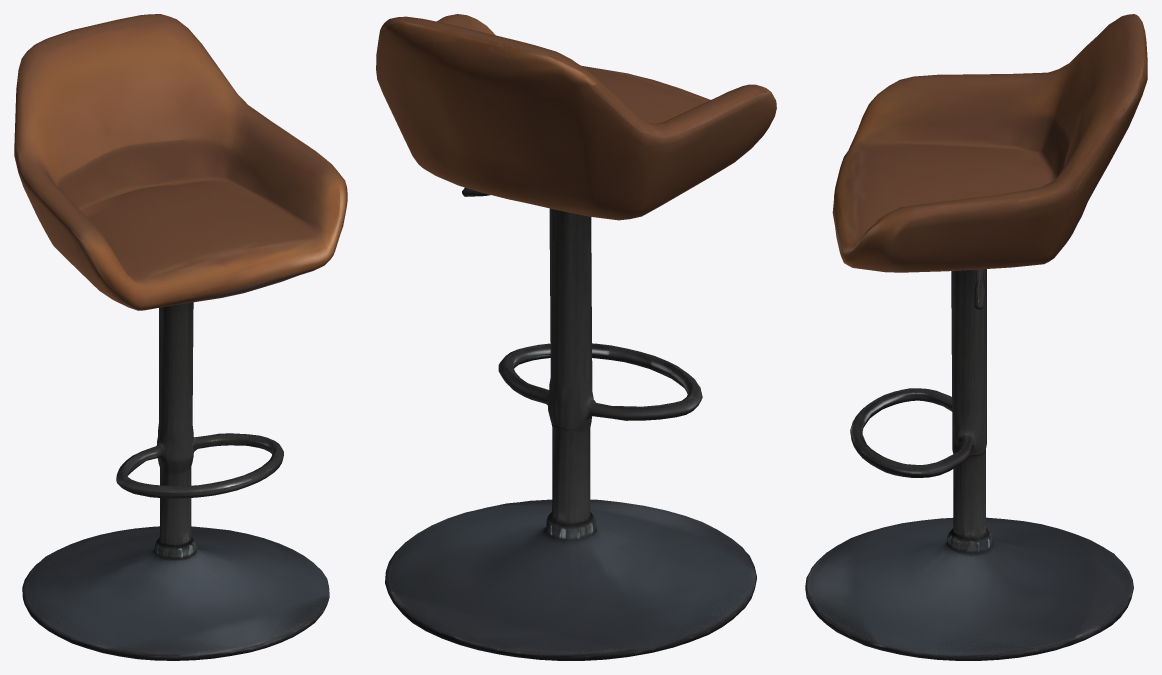
Rendered from Bar_Stool_Brown_Leat_41inches tal_with cocktail table0403041732_texture.glb.
The picture shows the model from 3 angles, left to right: view 1: azimuth 30°, elevation 25°; view 2: azimuth 150°, elevation 25°; view 3: azimuth 270°, elevation 25°; orthographic projection. The views are drawn at different scales.
Visible parts, largest first — view 1: Mesh_0; view 2: Mesh_0; view 3: Mesh_0.
Part boxes in pixels (x1,y1,x2,y2): Mesh_0: [14, 14, 347, 660]; Mesh_0: [376, 14, 776, 660]; Mesh_0: [805, 14, 1147, 660].
Size of the model in its own units: 0.571 by 1.04 by 0.5881.
1 material, 1 textured.
